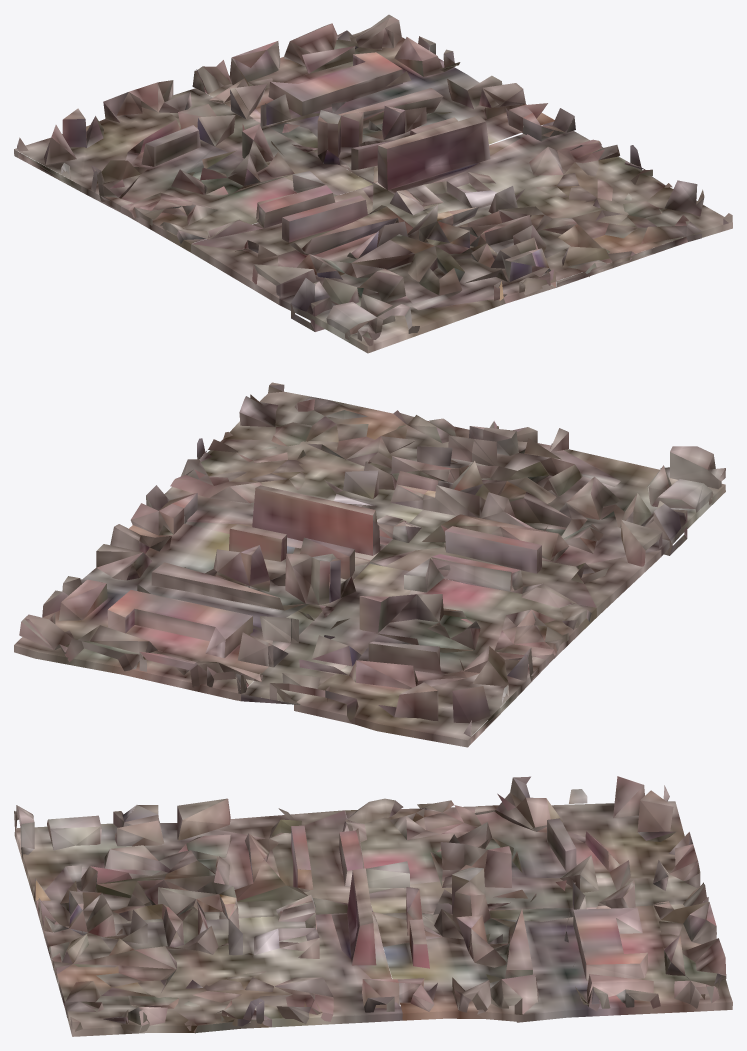
3 views of the same model, one above another, from view 1: azimuth 30°, elevation 25°; view 2: azimuth 150°, elevation 25°; view 3: azimuth 270°, elevation 25° (orthographic). The views are drawn at different scales.
Visible parts, largest first — view 1: Mesh_0; view 2: Mesh_0; view 3: Mesh_0.
Part boxes in pixels (<box>): Mesh_0: <box>14,14,732,353</box>; Mesh_0: <box>14,382,725,747</box>; Mesh_0: <box>14,776,732,1036</box>.
Bounding box in the file's own units: 532 × 71.93 × 660.
Materials: 2 (2 with a texture image).
